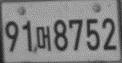1: (20, 20, 35, 51)
2: (101, 17, 116, 51)
5: (86, 18, 100, 51)
7: (68, 18, 83, 51)
8: (52, 19, 68, 51)
9: (4, 20, 19, 52)
머: (35, 26, 51, 51)
